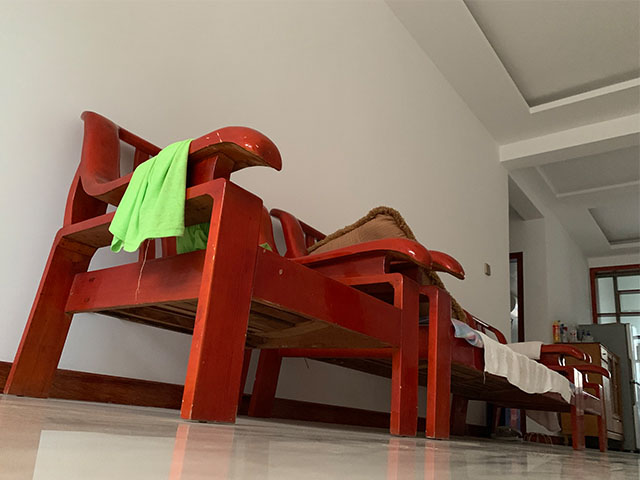cabinet: (554, 340, 625, 448)
sofa: (3, 105, 423, 440), (270, 211, 532, 436)
